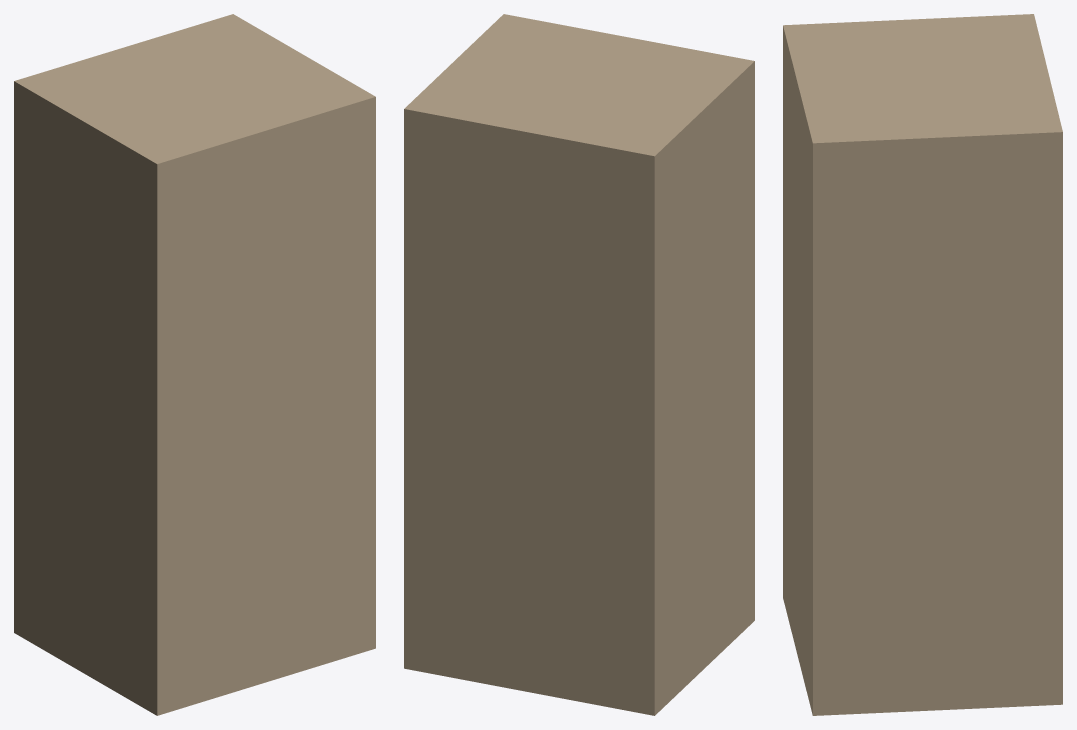
Rendered from bld_393483731.dae.
3 views of the same model, side by side, from view 1: azimuth 30°, elevation 25°; view 2: azimuth 150°, elevation 25°; view 3: azimuth 270°, elevation 25° (orthographic). The views are drawn at different scales.
Visible parts, largest first — view 1: bld_393483731; view 2: bld_393483731; view 3: bld_393483731.
Part boxes in pixels (x1=…): bld_393483731: x1=14, y1=14, x2=375, y2=715; bld_393483731: x1=404, y1=14, x2=754, y2=715; bld_393483731: x1=783, y1=14, x2=1062, y2=715.
Bounding box in the file's own units: 3.88 × 3.55 × 8.
